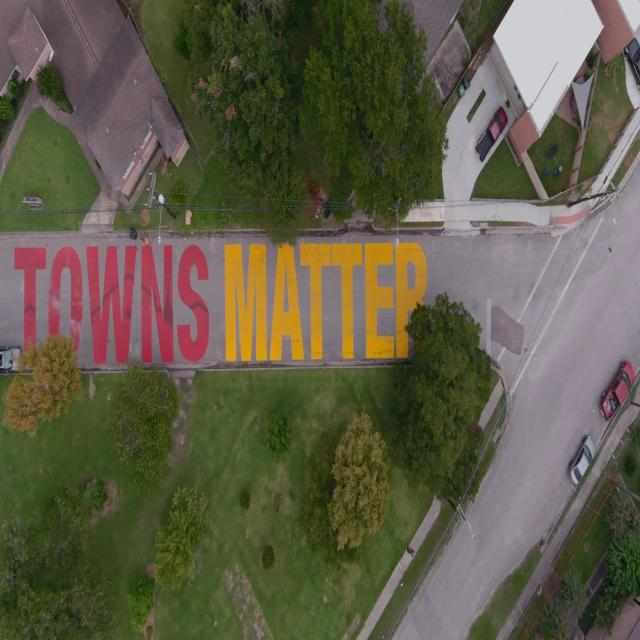Car: (565, 423, 603, 498), (600, 360, 636, 420), (474, 106, 506, 164), (622, 38, 640, 91), (0, 347, 22, 372), (492, 106, 508, 135)
